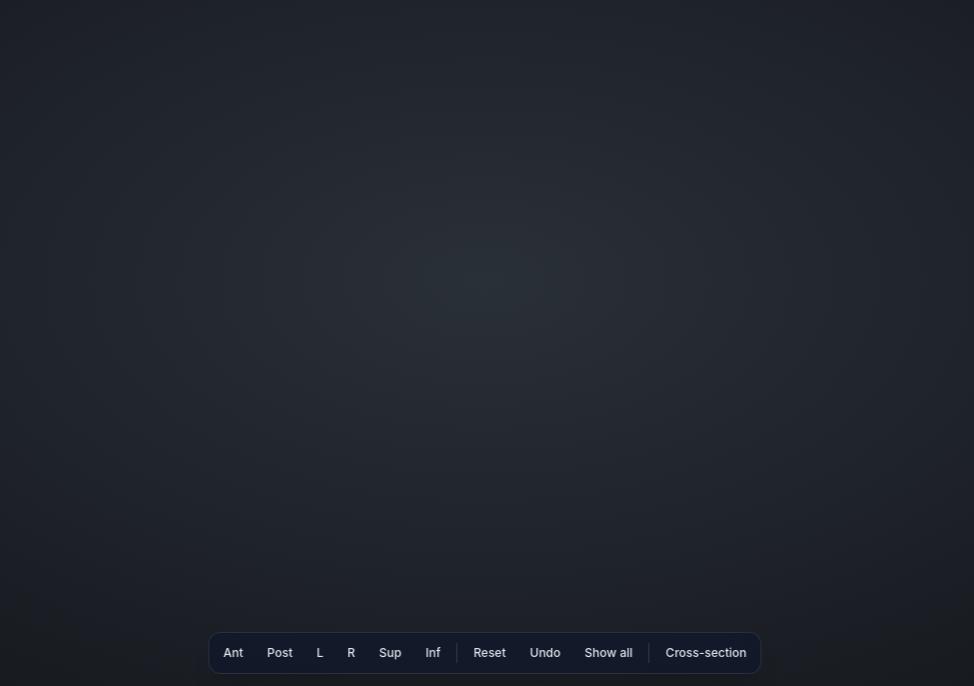
Scenario: Toolbar › enables Undo and Show all after hide and restores on Undo
Expected: the button "Show all" is enabled, [575, 637, 643, 669]
Click the button "Undo".
click(545, 653)  # box [520, 637, 571, 669]
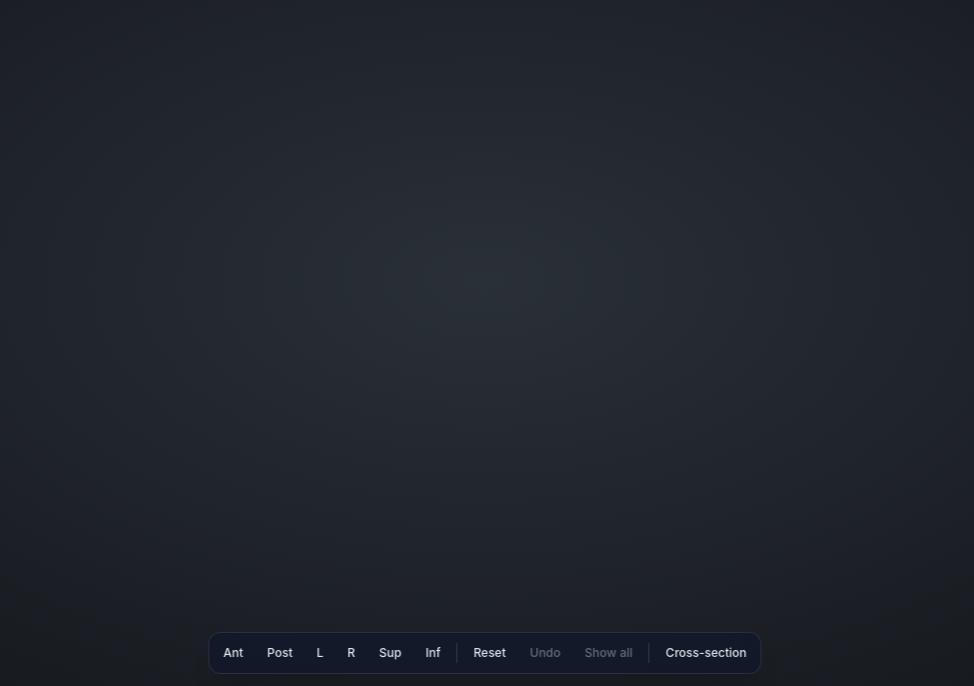
Expected: the button "Undo" is disabled, [520, 637, 571, 669]
